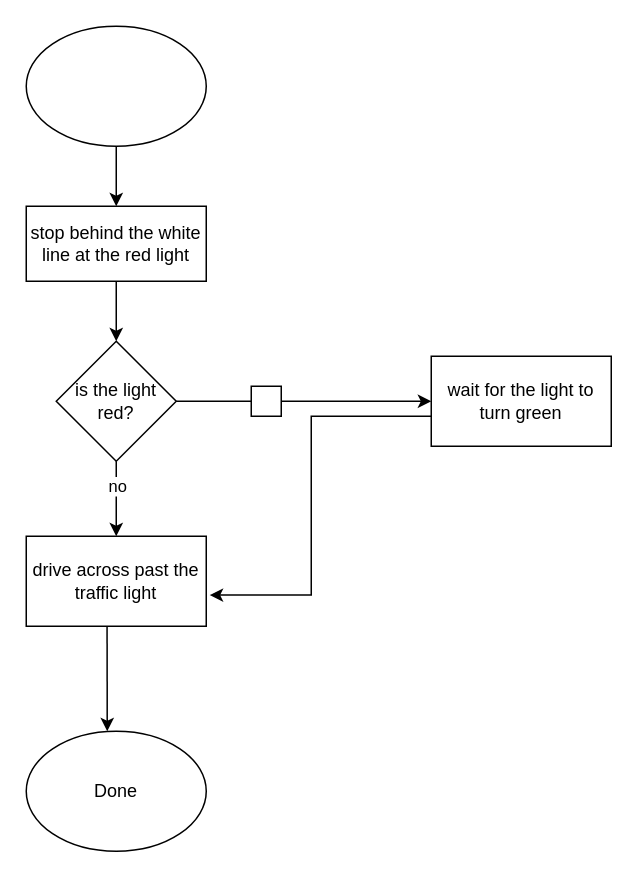
Image size: 638x878. Some labels were removed from this diagram. Here are the shapes that lost their labels. From the top down, the box of each, then its label:
(25, 25, 206, 146): Start
(250, 385, 281, 416): yes
